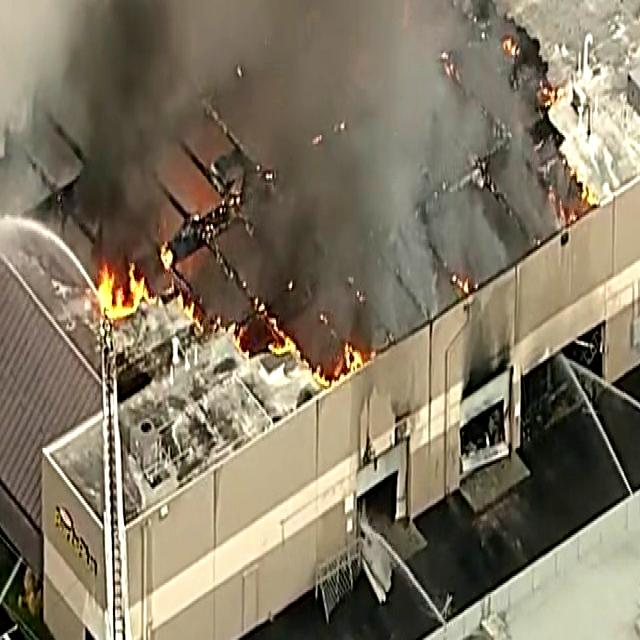fire: (107, 247, 155, 330)
smoke: (78, 0, 417, 187)
